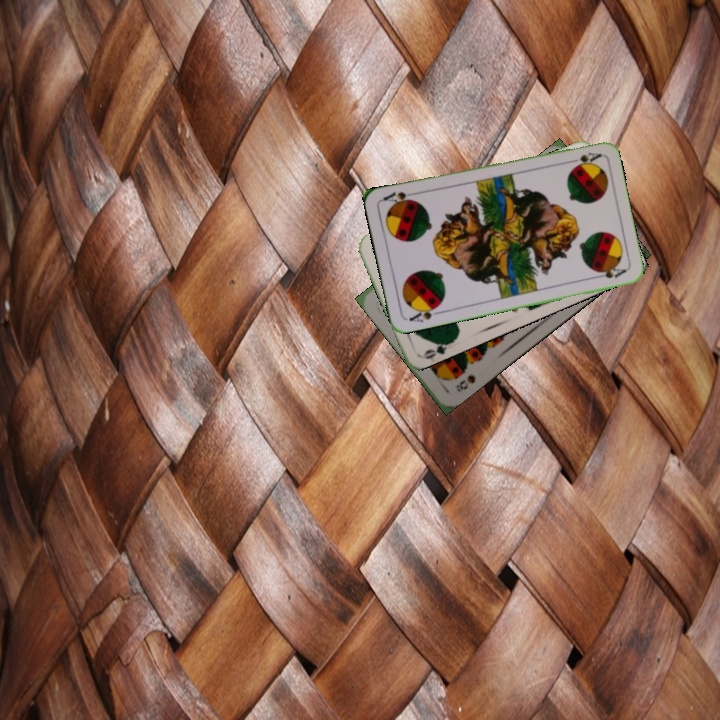GO: (419, 336, 457, 362)
S8: (451, 370, 478, 395)
SA: (405, 301, 444, 325), (563, 148, 604, 169)
